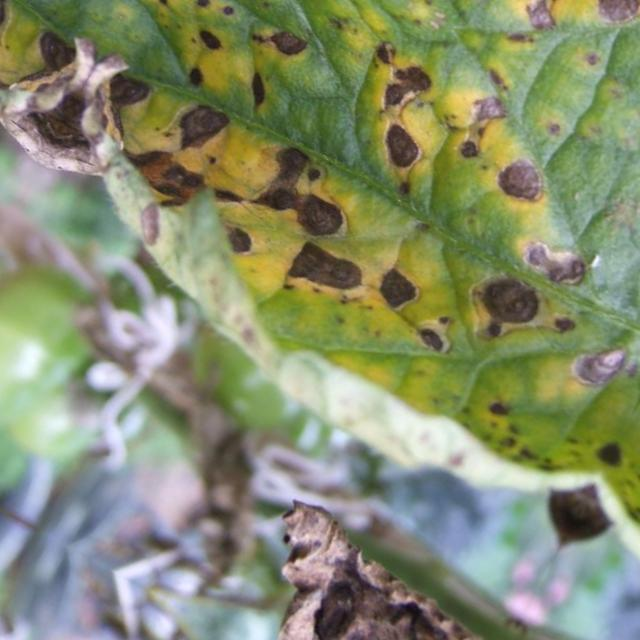Tomato Early blight leaf: (16, 0, 640, 515)
